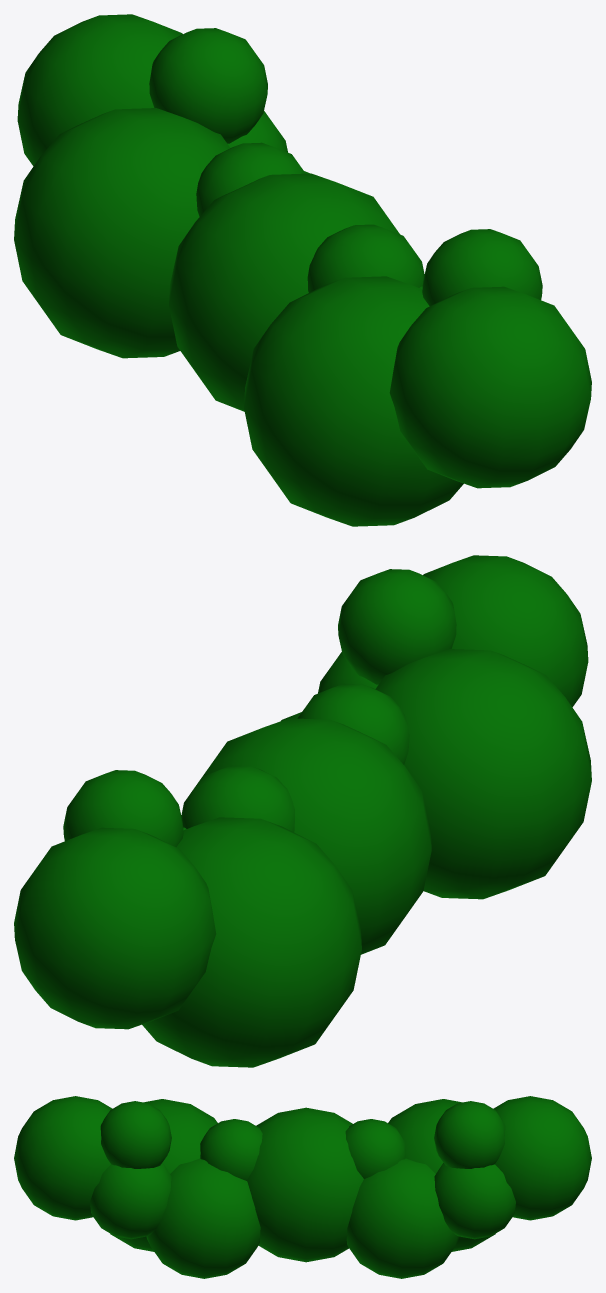
Rendered from FoliageSmall.fbx.
3 views of the same model, one above another, from view 1: azimuth 30°, elevation 25°; view 2: azimuth 150°, elevation 25°; view 3: azimuth 270°, elevation 25° (orthographic). The views are drawn at different scales.
Visible parts, largest first — view 1: Foliage (2); view 2: Foliage (2); view 3: Foliage (2).
Part boxes in pixels (box(x1,y1,x2,y2)): Foliage (2): box(14, 14, 591, 526); Foliage (2): box(14, 555, 591, 1067); Foliage (2): box(14, 1096, 591, 1278).
Size of the model in its own units: 929 by 868 by 2694.
